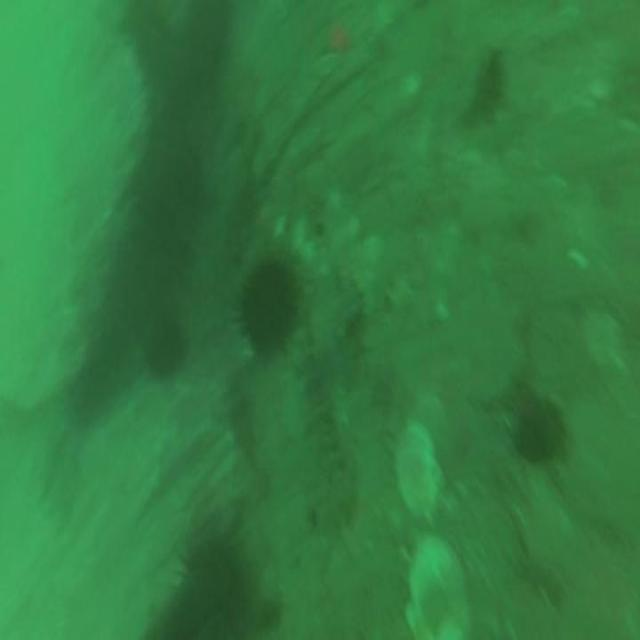echinus: (181, 542, 256, 640), (241, 259, 294, 356), (517, 396, 560, 462), (143, 321, 184, 376)
holothurian: (308, 354, 351, 537)
scallop: (407, 539, 472, 640), (393, 422, 443, 526)
